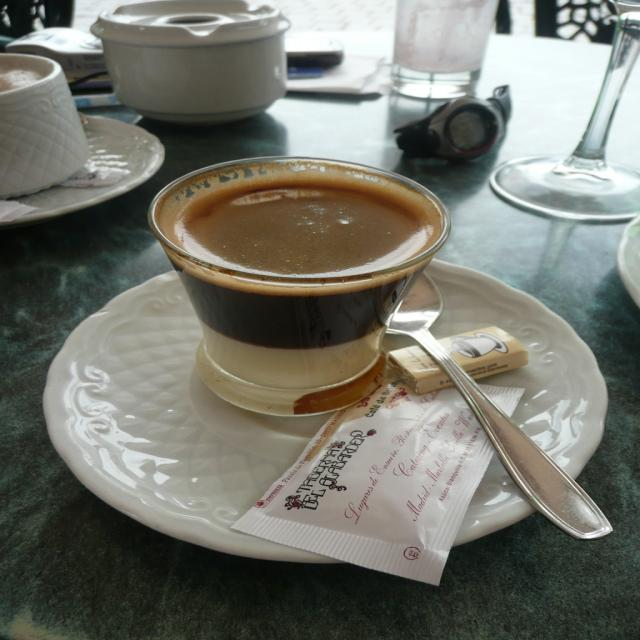Coffee: (166, 162, 445, 418)
Tea: (154, 162, 438, 277), (0, 60, 51, 92)
